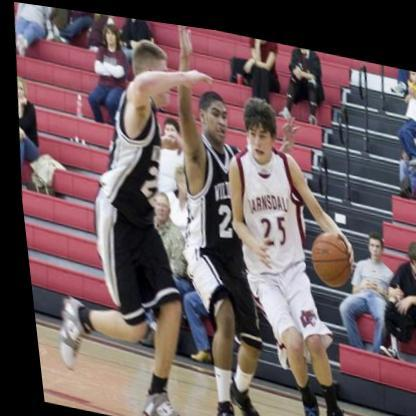basketball: (299, 217, 355, 286)
